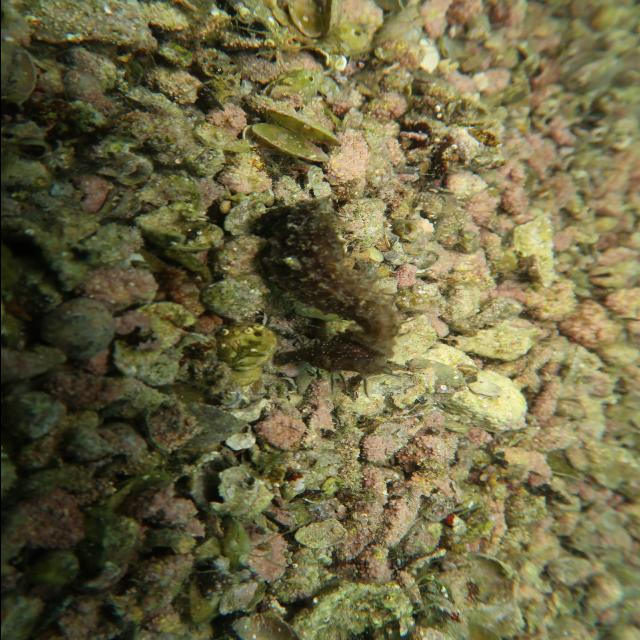Guttu: (266, 329, 400, 379)
